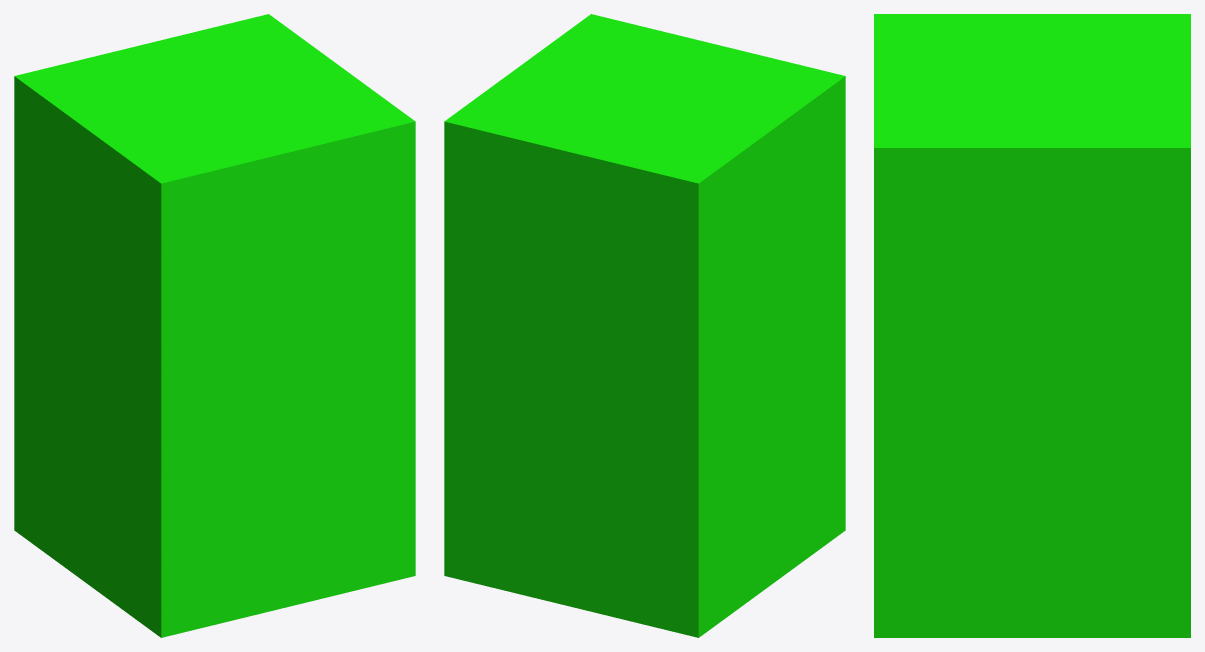
Rendered from college_base_model.glb.
The picture shows the model from 3 angles, left to right: view 1: azimuth 30°, elevation 25°; view 2: azimuth 150°, elevation 25°; view 3: azimuth 270°, elevation 25°; orthographic projection. The views are drawn at different scales.
Parts seen in each view (by area): view 1: OCCLUDER; view 2: OCCLUDER; view 3: OCCLUDER.
Boxes of the visible parts, left/top/right/bottom form: OCCLUDER: left=14, top=14, right=415, bottom=637; OCCLUDER: left=444, top=14, right=845, bottom=637; OCCLUDER: left=874, top=14, right=1190, bottom=637.
Size of the model in its own units: 0.5812 by 0.9917 by 0.5812.
